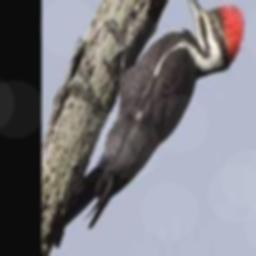Woodpecker: (43, 0, 245, 248)
